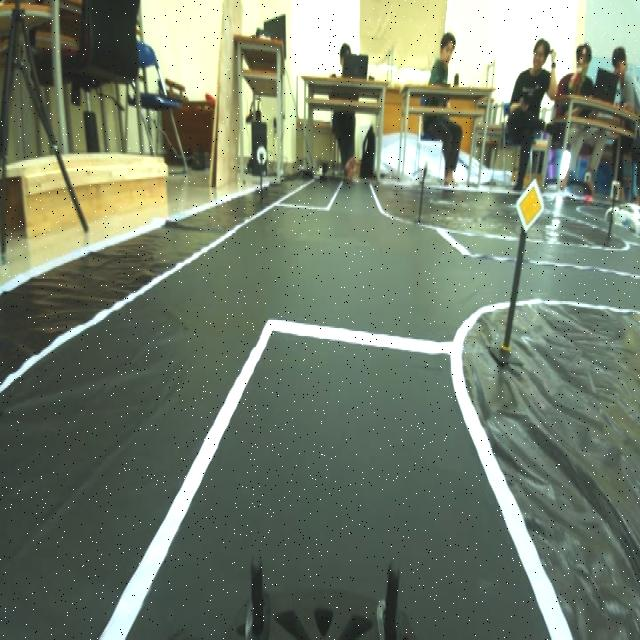priority: (512, 168, 550, 239)
